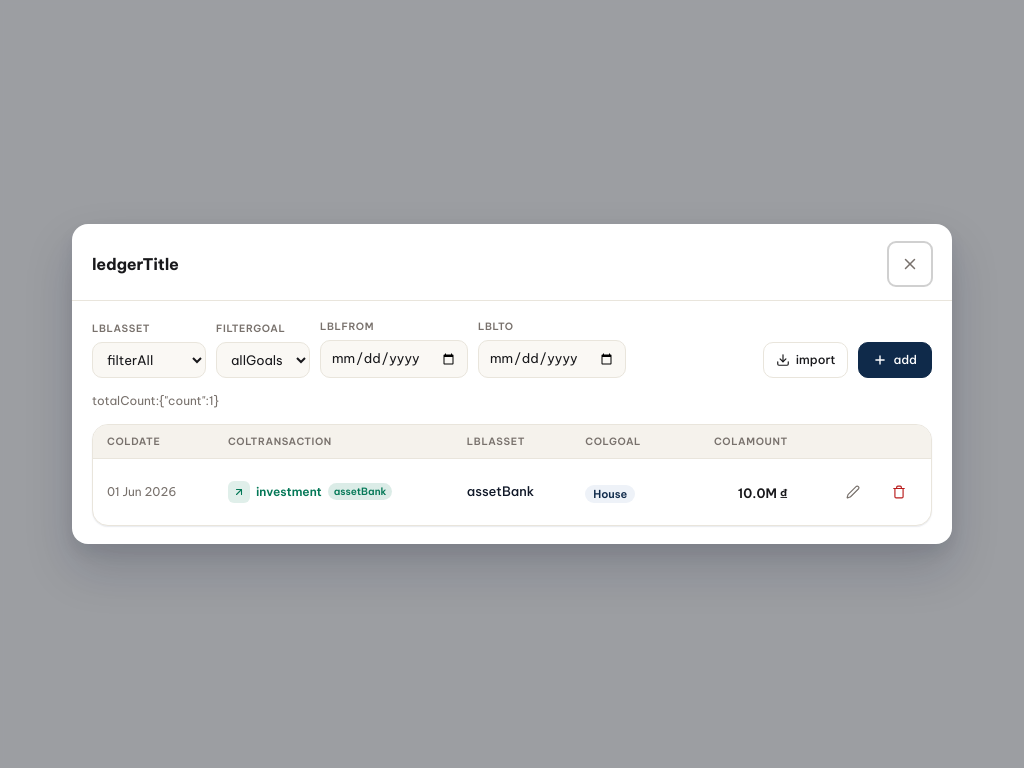
Test case: TransactionLedgerSheet — deleting a deposit a recurring saving feeds › names the saving that would lose its link
Step 1. Click the button with test id "tx-ledger-delete" → point(899, 492), box [877, 470, 921, 514]
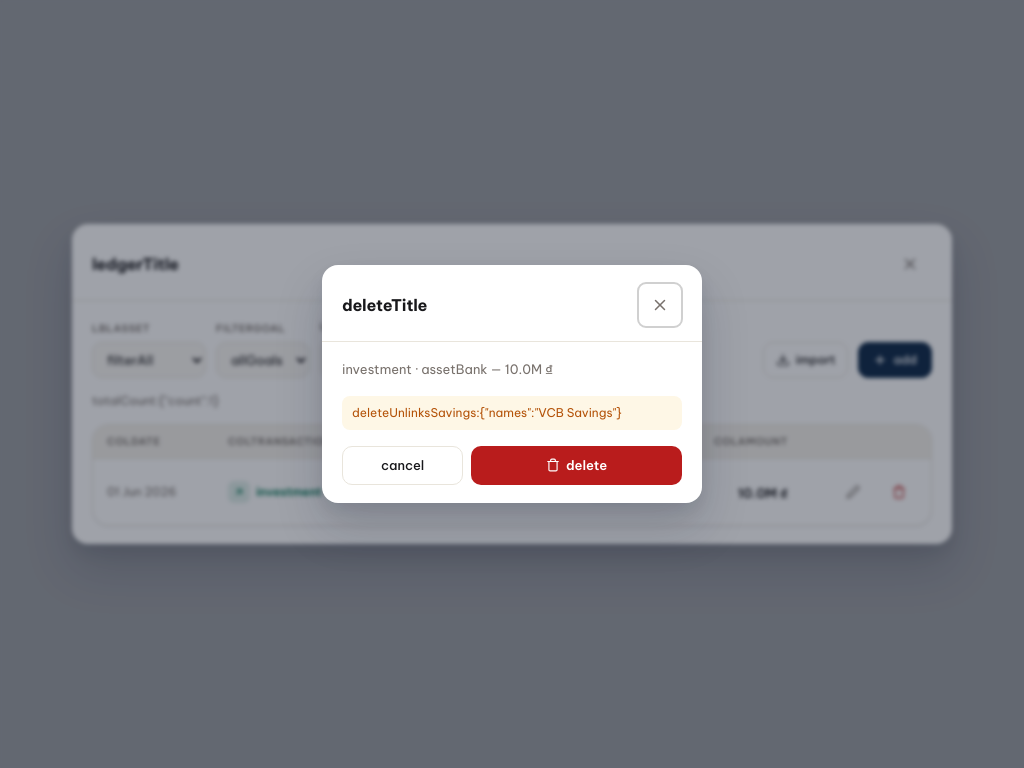
Expected: the text with test id "tx-delete-unlinks-savings" shows "VCB Savings", [352, 404, 622, 420]
